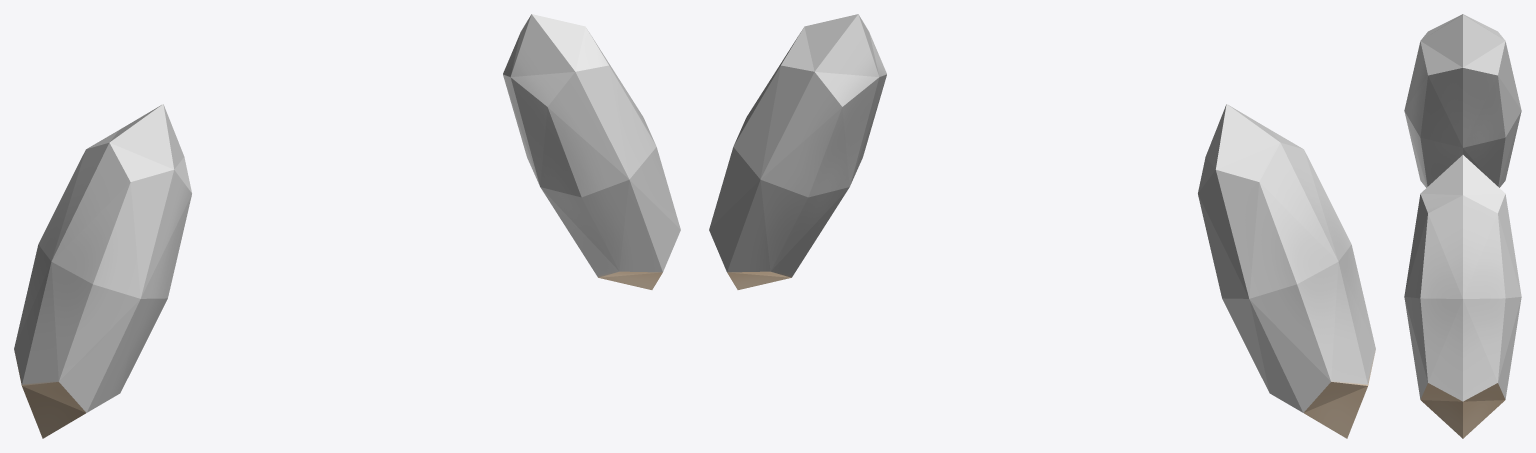
Rendered from playerArm.obj.
3 renders of one model, left to right at view 1: azimuth 30°, elevation 25°; view 2: azimuth 150°, elevation 25°; view 3: azimuth 270°, elevation 25°, orthographic. The views are drawn at different scales.
Parts seen in each view (by area): view 1: 立方体.001; view 2: 立方体.001; view 3: 立方体.001.
Part boxes in pixels (box(x1,y1,x2,y2)): 立方体.001: box(14, 14, 680, 438); 立方体.001: box(709, 14, 1375, 438); 立方体.001: box(1404, 14, 1521, 438).
Bounding box in the file's own units: 1.87 × 0.8369 × 0.3732.
Materials: 1 (1 with a texture image).
